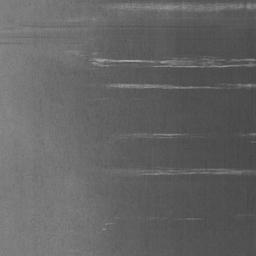Waist folding: (29, 0, 256, 28), (50, 48, 256, 72), (0, 16, 97, 47), (69, 213, 202, 232), (103, 166, 256, 178), (88, 82, 256, 91), (107, 131, 210, 141), (70, 248, 118, 253), (239, 131, 256, 144)
